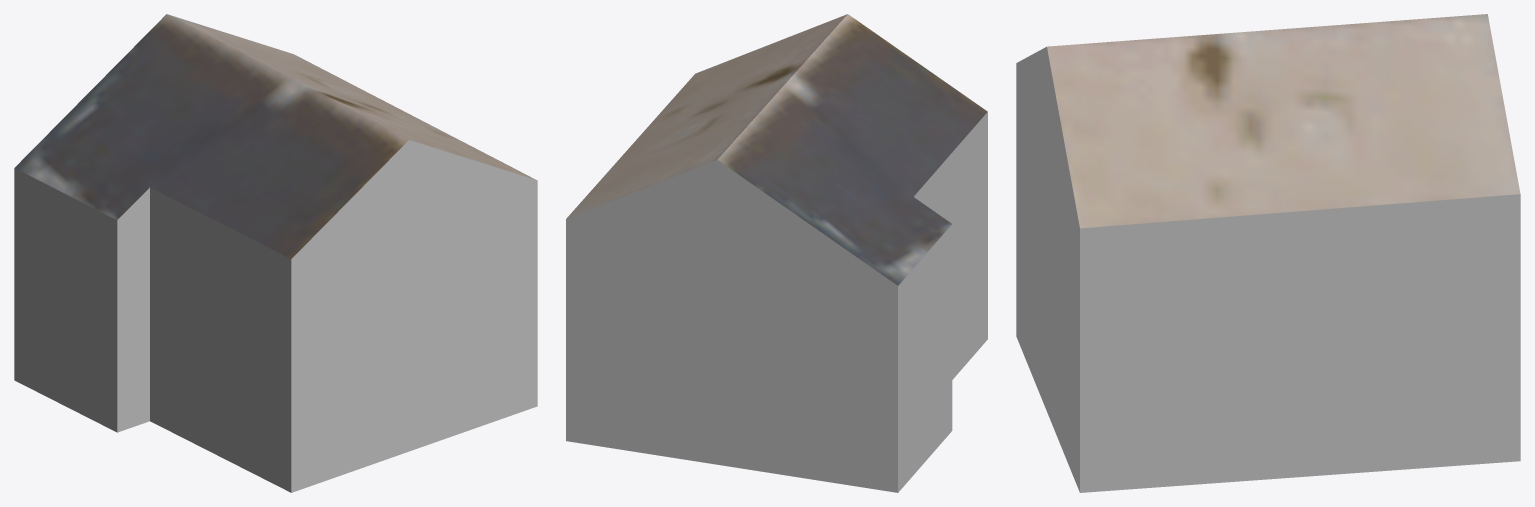
File: DEBW_0010007Txfn.gltf
3 views of the same model, side by side, from view 1: azimuth 30°, elevation 25°; view 2: azimuth 150°, elevation 25°; view 3: azimuth 270°, elevation 25° (orthographic). The views are drawn at different scales.
Visible parts, largest first — view 1: Z_UP; view 2: Z_UP; view 3: Z_UP.
Part boxes in pixels (x1,y1,x2,y2): Z_UP: (14, 14, 537, 492); Z_UP: (566, 14, 987, 492); Z_UP: (1016, 14, 1520, 492).
Size of the model in its own units: 11.91 by 9.74 by 12.14.
2 materials, 1 textured.
